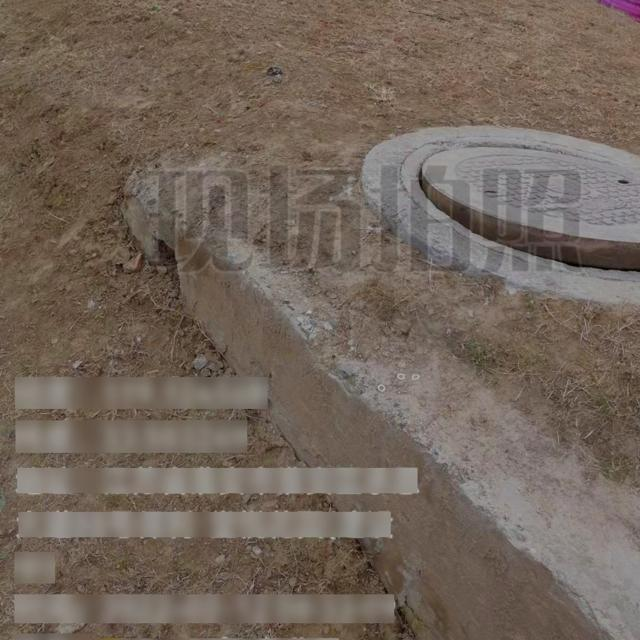uncovered: (394, 140, 640, 284)
